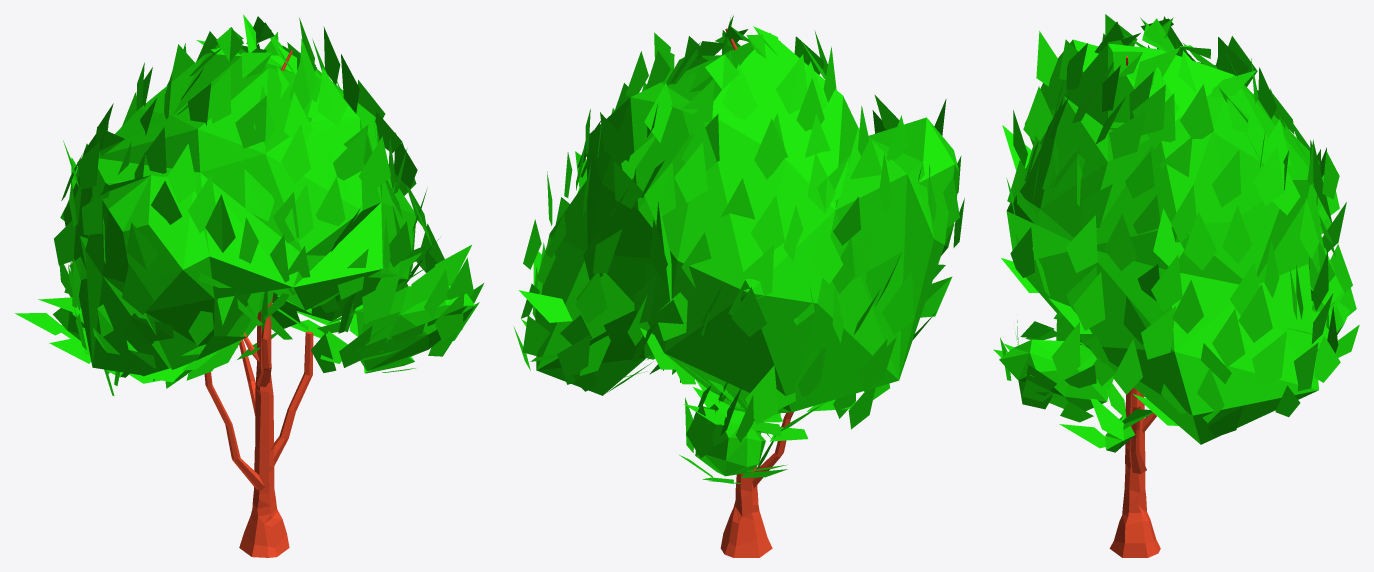
The model's file is SM_Tree_Birch_B.fbx.
3 views of the same model, side by side, from view 1: azimuth 30°, elevation 25°; view 2: azimuth 150°, elevation 25°; view 3: azimuth 270°, elevation 25° (orthographic). The views are drawn at different scales.
Visible parts, largest first — view 1: SM_Tree_Birch_B; view 2: SM_Tree_Birch_B; view 3: SM_Tree_Birch_B.
Boxes of the visible parts, left/top/right/bottom form: SM_Tree_Birch_B: left=15, top=14, right=483, bottom=557; SM_Tree_Birch_B: left=513, top=15, right=964, bottom=557; SM_Tree_Birch_B: left=993, top=14, right=1359, bottom=557.
Size of the model in its own units: 4.39 by 5.85 by 3.65.
